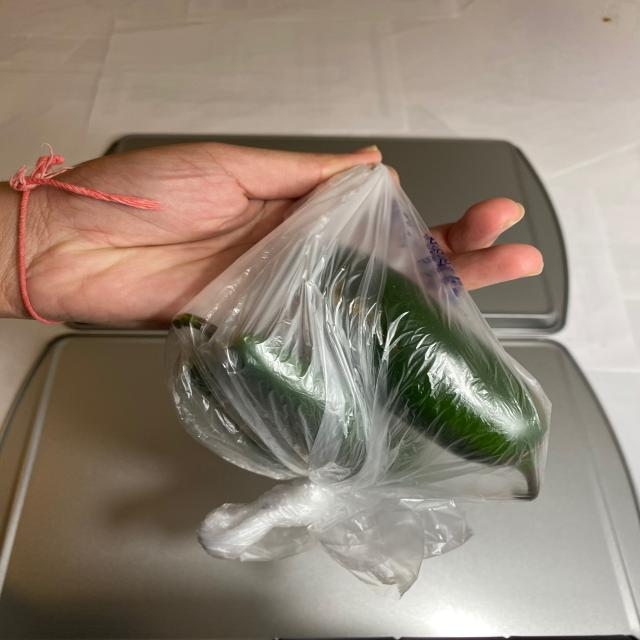chilli: (177, 238, 544, 508)
